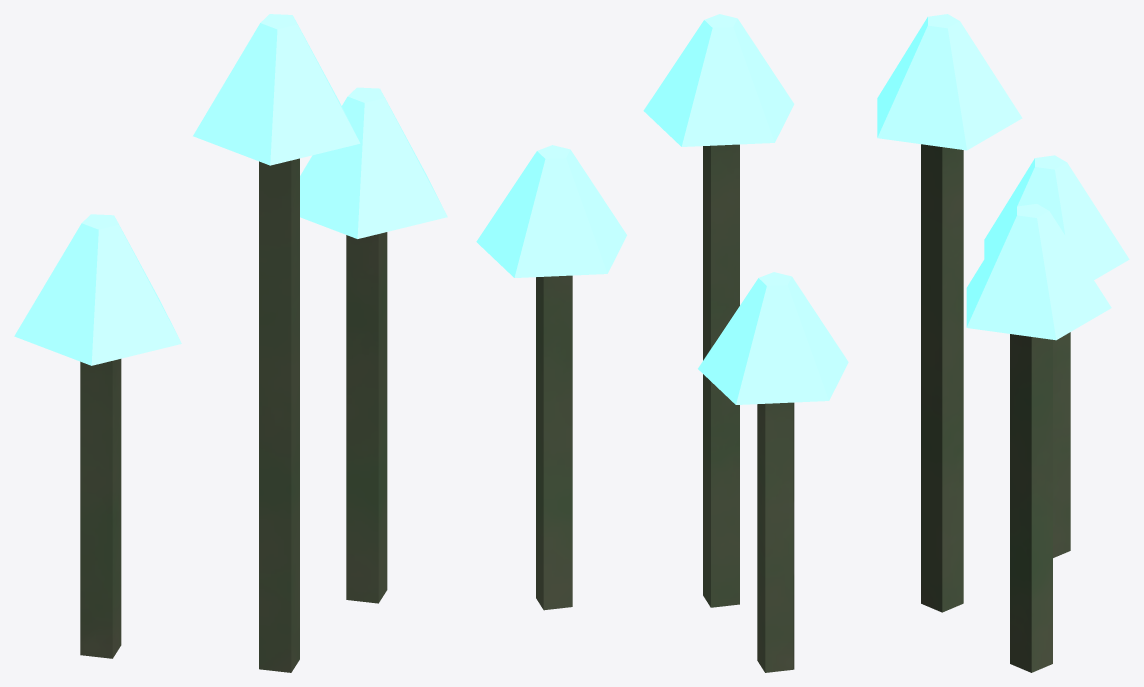
Rendered from flor_luminosa.glb.
3 renders of one model, left to right at view 1: azimuth 30°, elevation 25°; view 2: azimuth 150°, elevation 25°; view 3: azimuth 270°, elevation 25°, orthographic. The views are drawn at different scales.
Visible parts, largest first — view 1: flor_luminosa; view 2: flor_luminosa; view 3: flor_luminosa.
Boxes of the visible parts, box(x1,y1,x2,y2) form: flor_luminosa: box(14, 14, 447, 672); flor_luminosa: box(476, 14, 848, 672); flor_luminosa: box(877, 14, 1129, 672).
Size of the model in its own units: 0.2356 by 0.36 by 0.1414.
Materials: 2 (1 with a texture image).
